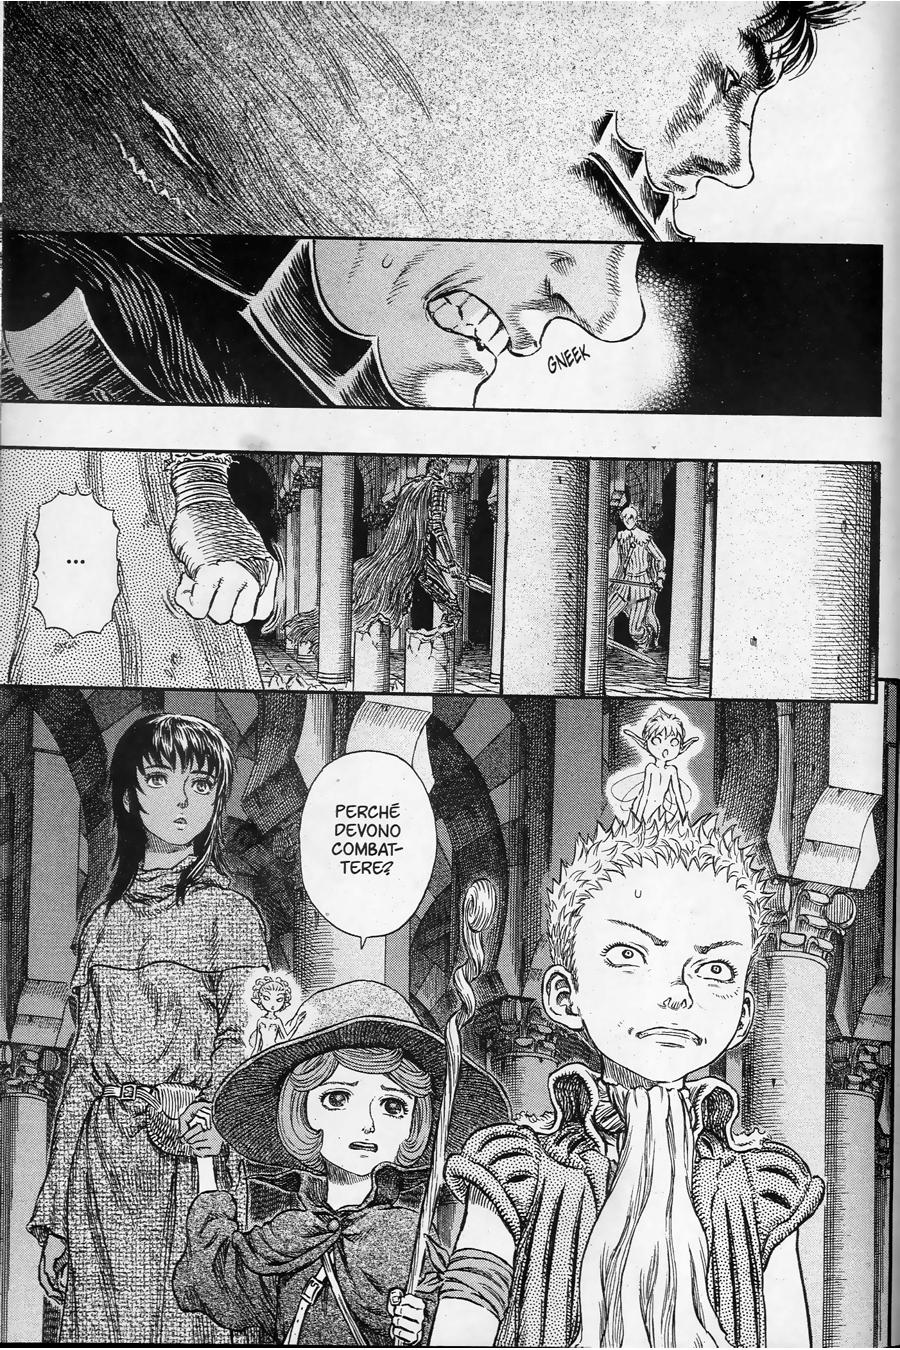Baloon: (300, 750, 438, 950), (28, 485, 122, 640)
Vignetta: (1, 687, 897, 1350), (1, 448, 877, 703), (6, 3, 899, 242), (2, 234, 885, 415)
